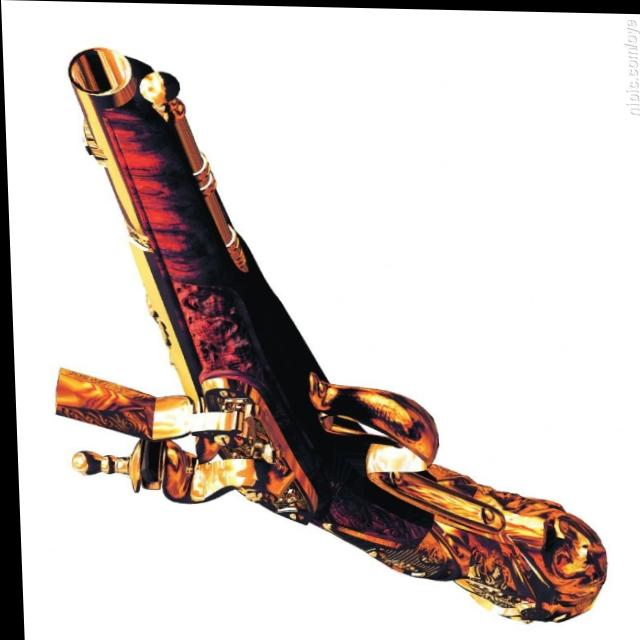handgun: (35, 46, 598, 623)
